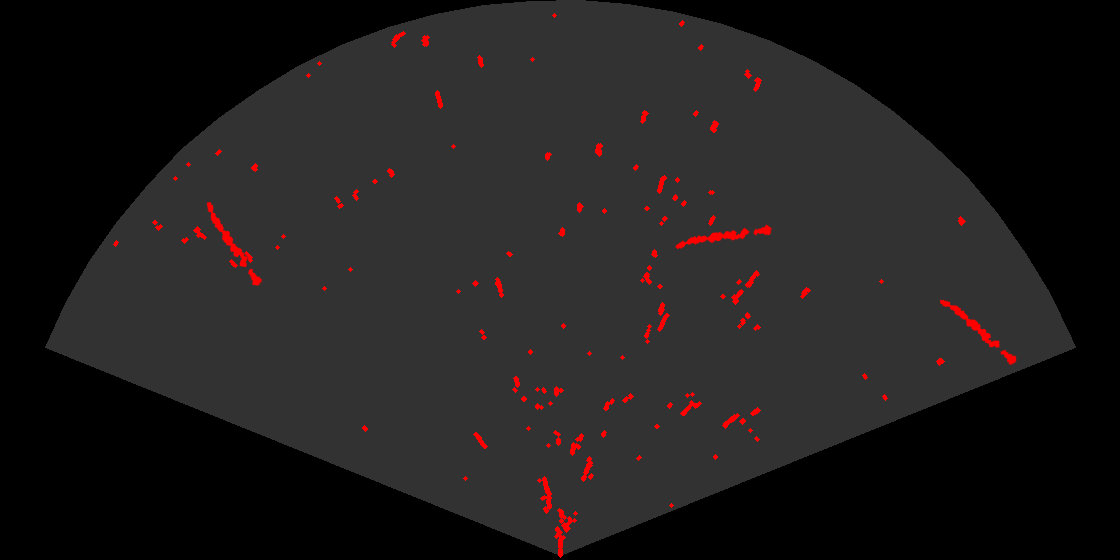chain: (938, 298, 1018, 367), (205, 200, 264, 287), (674, 223, 774, 251)
